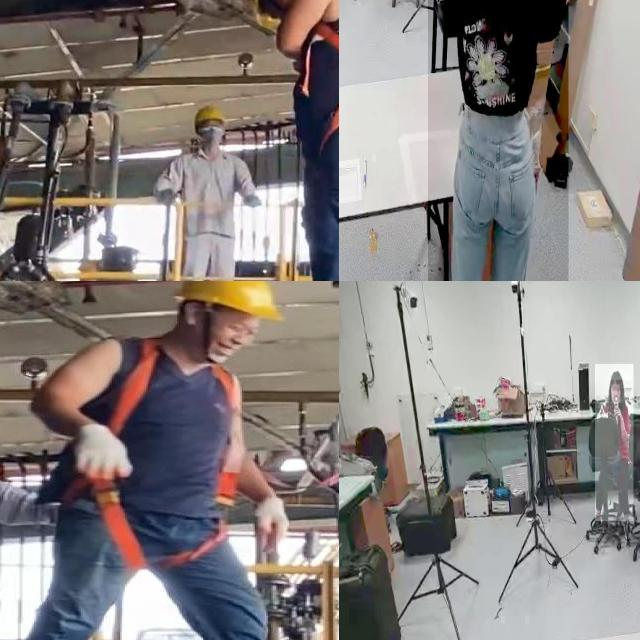Harness: (86, 336, 246, 574), (287, 0, 339, 179)
face_nomask: (611, 384, 621, 402)
hand_noglove: (614, 403, 622, 419)
head_nohelmet: (609, 369, 623, 381)
person: (428, 0, 569, 281), (595, 364, 634, 522)
